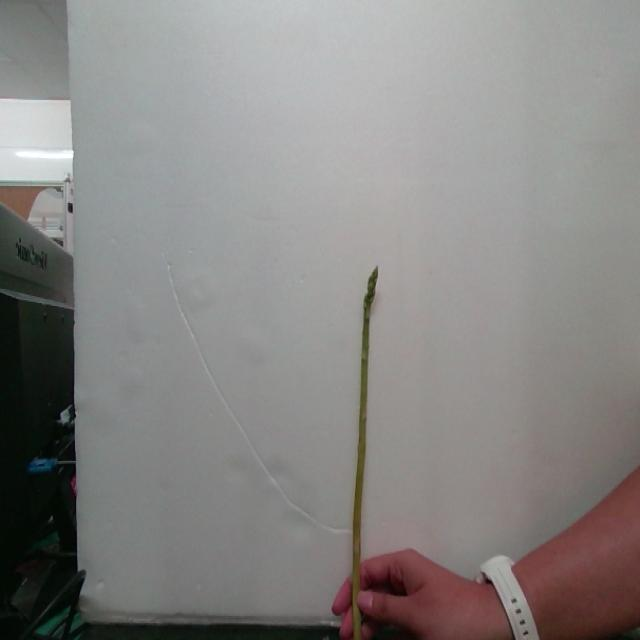aspargus: (346, 274, 380, 640)
